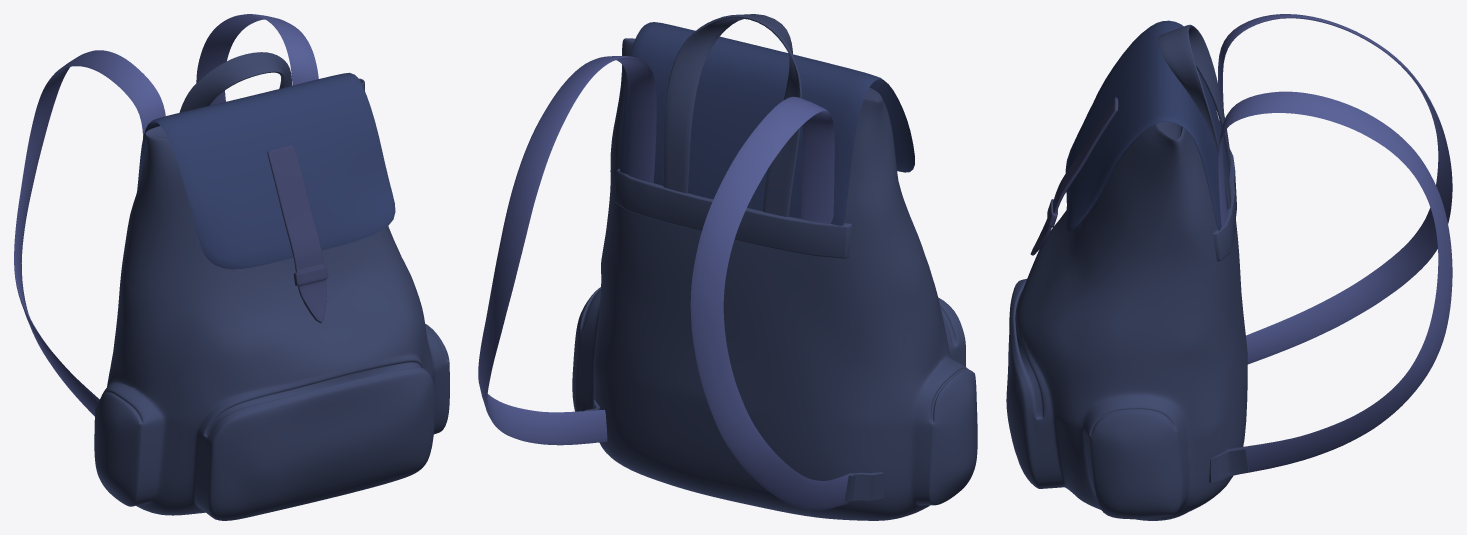
Rendered from Bag_blue.fbx.
3 views of the same model, side by side, from view 1: azimuth 30°, elevation 25°; view 2: azimuth 150°, elevation 25°; view 3: azimuth 270°, elevation 25° (orthographic). The views are drawn at different scales.
Visible parts, largest first — view 1: Bag_blue; view 2: Bag_blue; view 3: Bag_blue.
Part boxes in pixels (left/top/right/bottom): Bag_blue: left=14, top=14, right=449, bottom=520; Bag_blue: left=478, top=14, right=977, bottom=520; Bag_blue: left=1006, top=14, right=1452, bottom=520.
Size of the model in its own units: 36.21 by 43.12 by 40.13.
